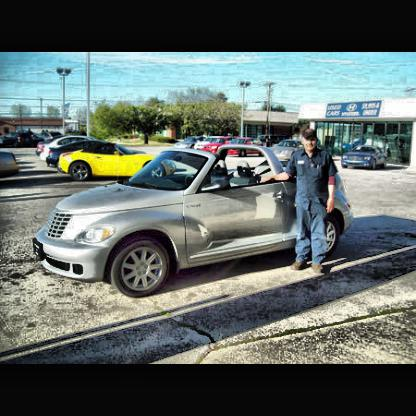Chrysler PT Cruiser Convertible 2008: (35, 148, 353, 299)
